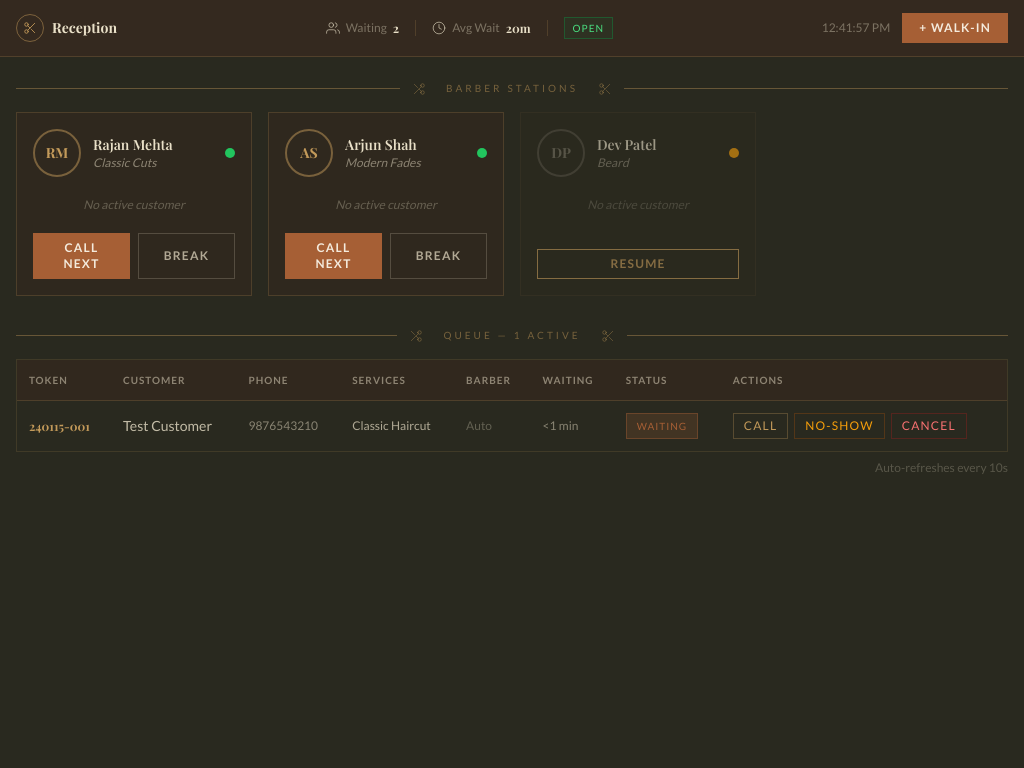
Test: ReceptionPage — status transitions › opens confirm modal when Call is clicked
Click the button with aria-label "Call 240115-001". click: (761, 426)
box: 733,413 -> 788,439
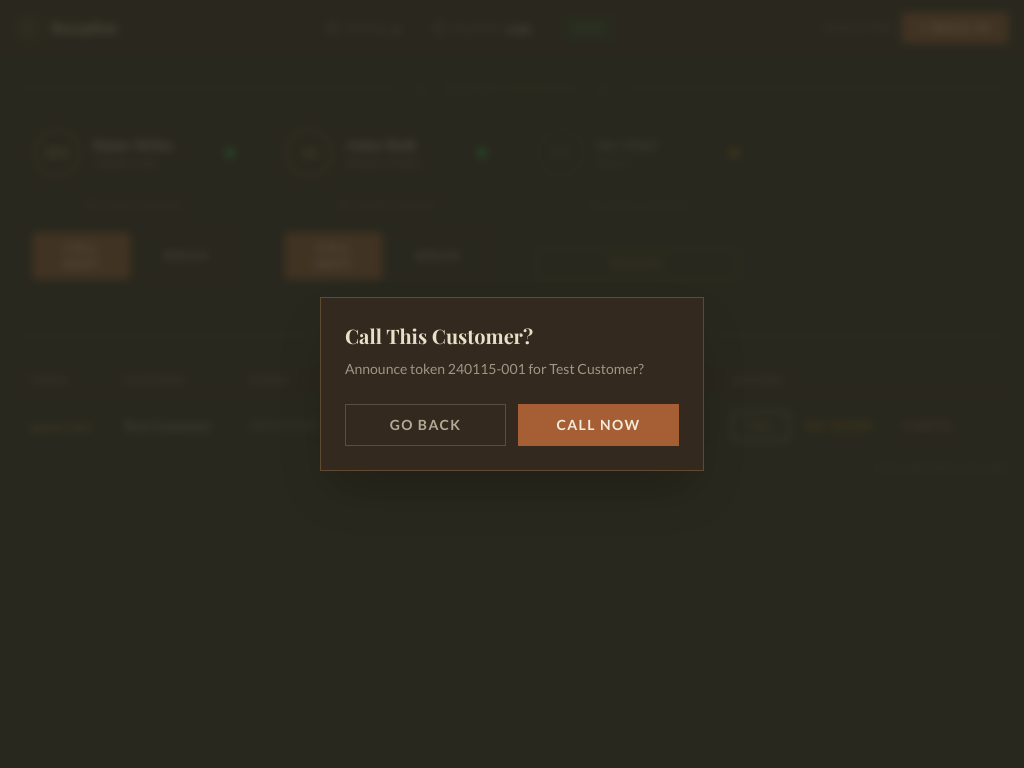
Check: the dialog is shown
Check: the heading "Call This Customer?" is shown, box 345,322 -> 533,349
